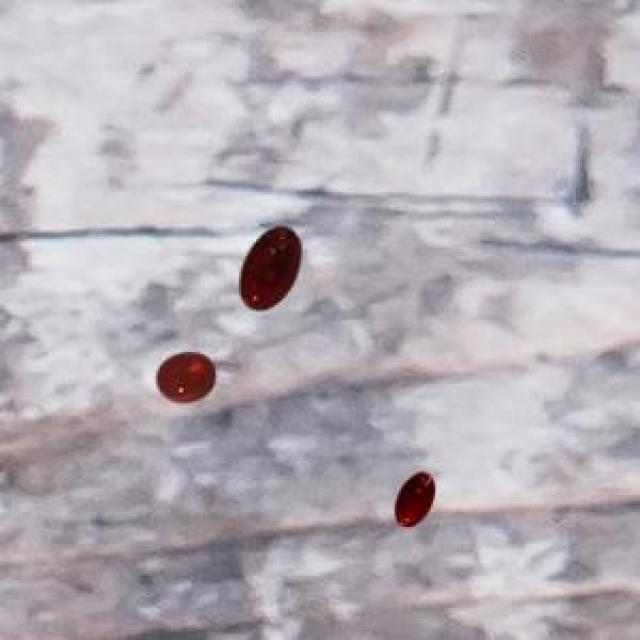Medicol: (231, 215, 313, 321), (149, 341, 229, 415), (386, 458, 442, 542)
